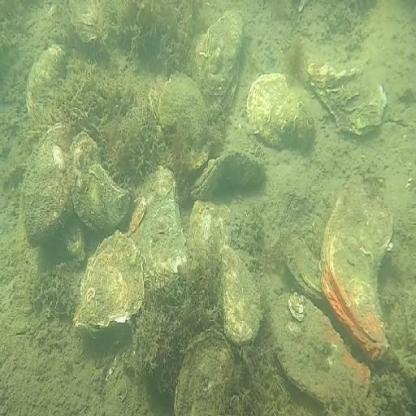Oyster- Indeterminate: (322, 177, 394, 353)
Oyster-Closed: (273, 291, 371, 402), (128, 164, 189, 288), (74, 227, 144, 330), (62, 133, 131, 237), (22, 126, 77, 252), (306, 62, 385, 135), (176, 321, 235, 416), (216, 248, 264, 346), (247, 77, 314, 145), (192, 8, 242, 97), (190, 146, 264, 200), (158, 76, 213, 144), (25, 47, 69, 128), (286, 225, 326, 301), (189, 201, 232, 266), (64, 0, 115, 43), (151, 83, 163, 117)
